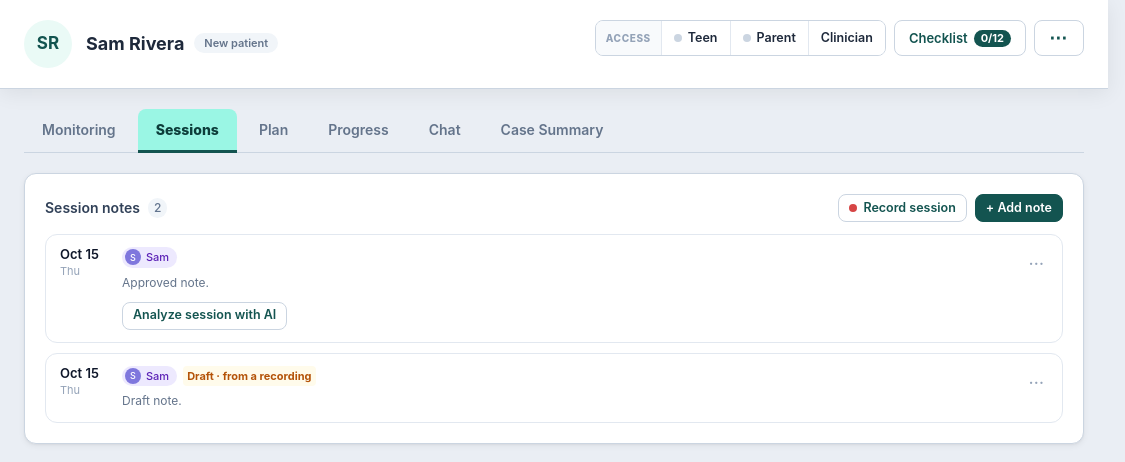
Test: Analyze session with AI › shows a plain error when it fails
What coordinates should you click on to do the following:
click the button "Analyze session with AI"
I would click on:
 (205, 316)
Its box is [122,302,287,330].
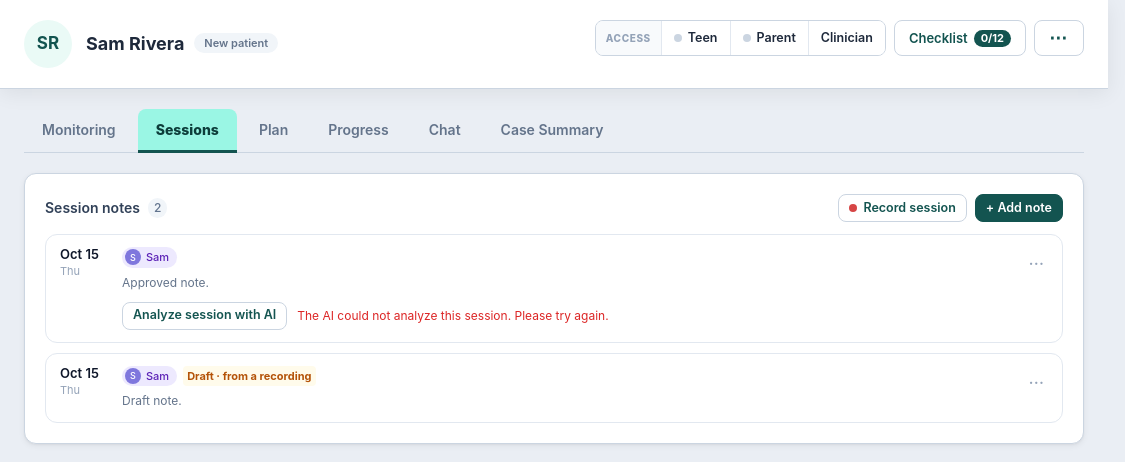
Result: the message reads "The AI could not analyze this session. Please try again." at [297,308,609,322]
